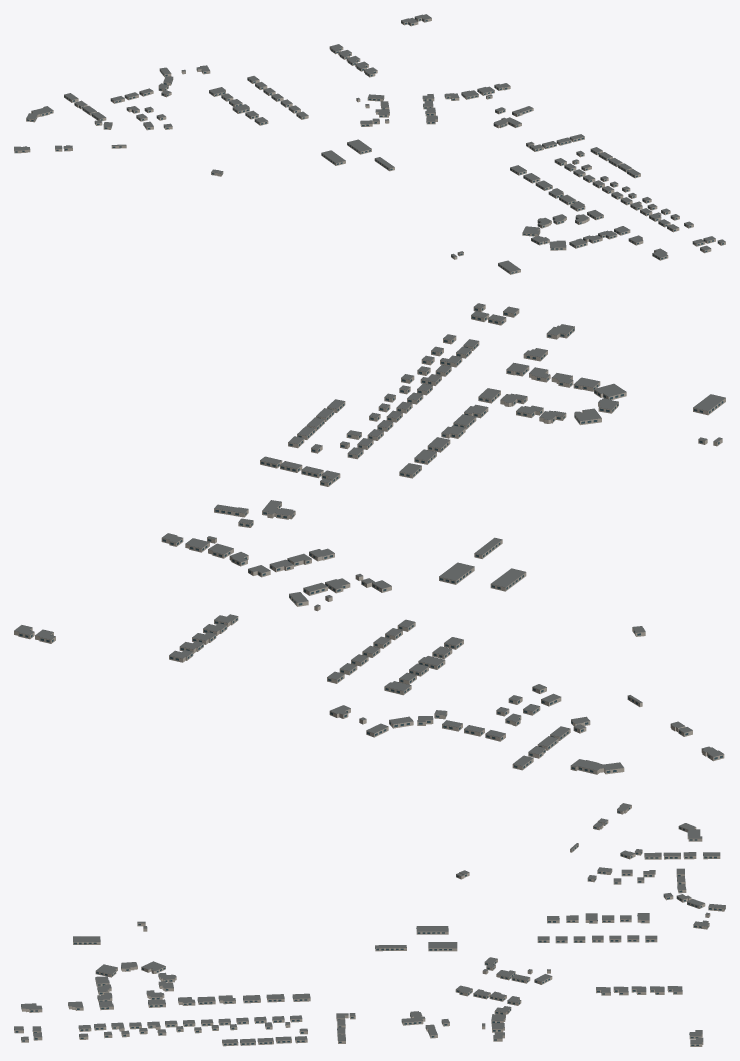
3 renders of one model, top to bottom at view 1: azimuth 30°, elevation 25°; view 2: azimuth 150°, elevation 25°; view 3: azimuth 270°, elevation 25°, orthographic. The views are drawn at different scales.
Visible parts, largest first — view 1: Buildings (1, -4) Roof membrane, Buildings (1, -4) Masonry brick, Buildings (1, -4) Architectural tinted glass, Buildings (1, -4) Metal coping; view 2: Buildings (1, -4) Roof membrane, Buildings (1, -4) Masonry brick, Buildings (1, -4) Architectural tinted glass, Buildings (1, -4) Metal coping; view 3: Buildings (1, -4) Roof membrane, Buildings (1, -4) Masonry brick, Buildings (1, -4) Architectural tinted glass, Buildings (1, -4) Metal coping.
Boxes of the visible parts, box(x1,y1,x2,y2) form: Buildings (1, -4) Roof membrane: box(14, 14, 725, 271); Buildings (1, -4) Masonry brick: box(14, 17, 725, 274); Buildings (1, -4) Architectural tinted glass: box(15, 18, 723, 273); Buildings (1, -4) Metal coping: box(14, 16, 725, 271); Buildings (1, -4) Roof membrane: box(14, 303, 725, 770); Buildings (1, -4) Masonry brick: box(14, 305, 725, 774); Buildings (1, -4) Architectural tinted glass: box(19, 308, 723, 772); Buildings (1, -4) Metal coping: box(14, 303, 725, 770); Buildings (1, -4) Roof membrane: box(14, 803, 725, 1043); Buildings (1, -4) Masonry brick: box(14, 805, 725, 1046); Buildings (1, -4) Architectural tinted glass: box(14, 807, 725, 1045); Buildings (1, -4) Metal coping: box(14, 803, 725, 1043).
Bounding box in the file's own units: 583 × 5.68 × 726.
